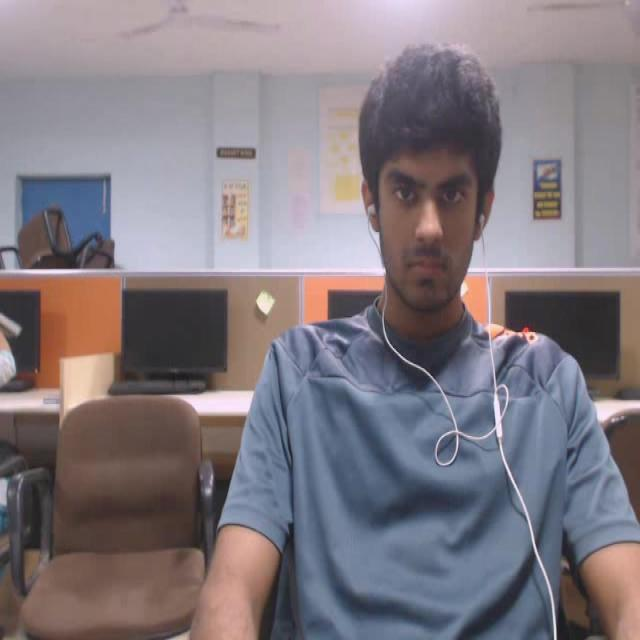Engaged: (339, 31, 523, 322)
